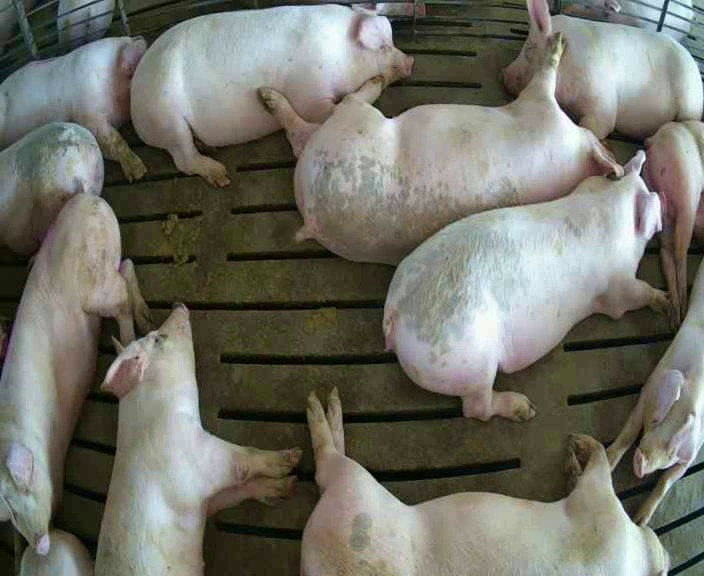pig: (261, 34, 621, 263), (384, 151, 664, 419), (303, 389, 667, 574), (0, 193, 152, 573), (97, 304, 300, 574), (131, 5, 412, 186), (504, 2, 702, 137), (607, 259, 703, 525), (0, 37, 146, 181), (0, 123, 103, 254), (644, 121, 703, 325)
